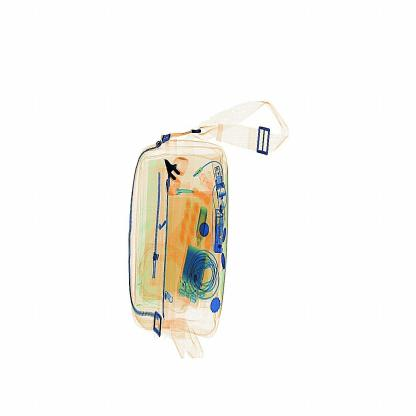gun: (154, 156, 194, 210)
